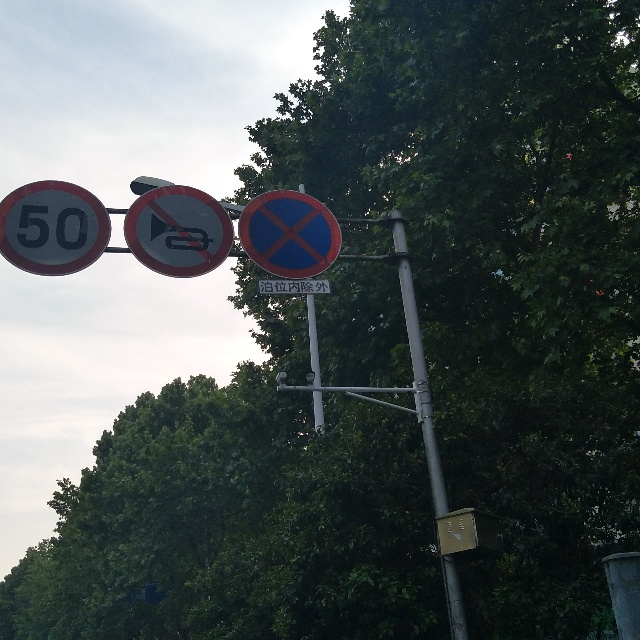nohonk: (133, 180, 221, 271)
stop: (249, 191, 333, 273)
